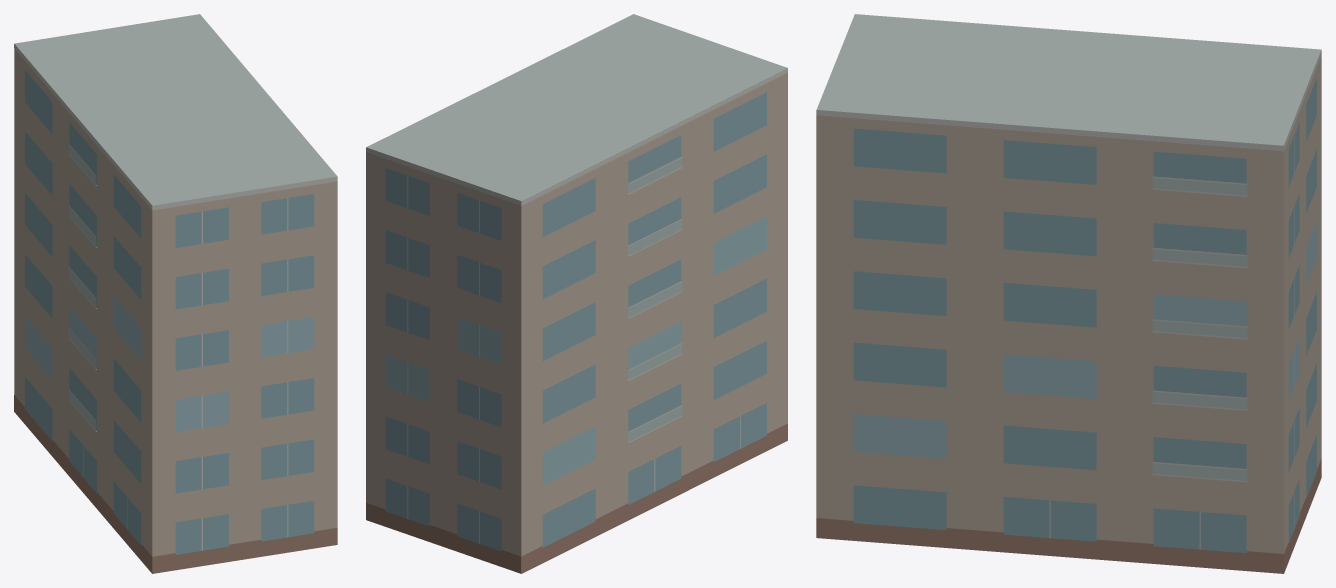
File: survey-upis-32658970.glb
3 views of the same model, side by side, from view 1: azimuth 30°, elevation 25°; view 2: azimuth 150°, elevation 25°; view 3: azimuth 270°, elevation 25° (orthographic). The views are drawn at different scales.
Visible parts, largest first — view 1: survey-upis-32658970.tmp; view 2: survey-upis-32658970.tmp; view 3: survey-upis-32658970.tmp.
Boxes of the visible parts, x1,y1,x2,y2 form: survey-upis-32658970.tmp: [14, 14, 337, 573]; survey-upis-32658970.tmp: [366, 14, 787, 573]; survey-upis-32658970.tmp: [816, 14, 1321, 573].
Size of the model in its own units: 12.48 by 18.9 by 20.22.
